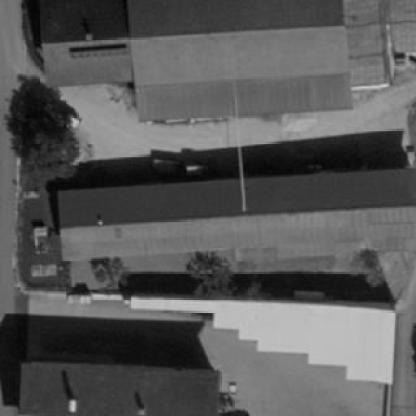solar-pv-panel: (69, 50, 129, 58)
